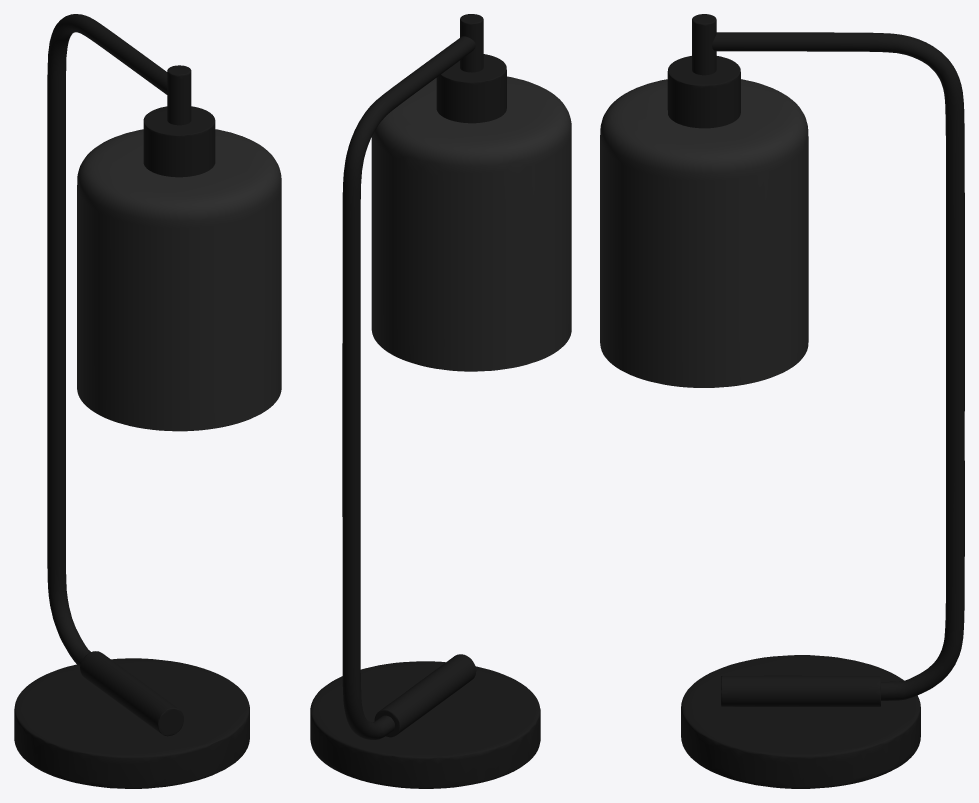
Rendered from TRNT2776.obj.
3 views of the same model, side by side, from view 1: azimuth 30°, elevation 25°; view 2: azimuth 150°, elevation 25°; view 3: azimuth 270°, elevation 25° (orthographic). The views are drawn at different scales.
Parts seen in each view (by area): view 1: clear_obj_0_92_1569_v6, not_clear_obj_1_v6; view 2: clear_obj_0_92_1569_v6, not_clear_obj_1_v6; view 3: clear_obj_0_92_1569_v6, not_clear_obj_1_v6.
Boxes of the visible parts, bbox=[...] form: clear_obj_0_92_1569_v6: bbox=[77, 129, 281, 431]; not_clear_obj_1_v6: bbox=[14, 14, 249, 788]; clear_obj_0_92_1569_v6: bbox=[371, 76, 571, 371]; not_clear_obj_1_v6: bbox=[310, 14, 540, 788]; clear_obj_0_92_1569_v6: bbox=[600, 79, 808, 387]; not_clear_obj_1_v6: bbox=[667, 14, 964, 788].
Size of what is drawn, in the model's own units: 14.57 by 47.97 by 22.02.
